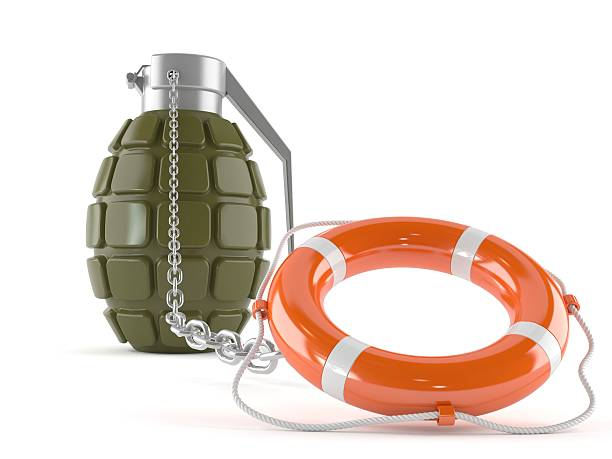e1: (85, 53, 297, 355)
